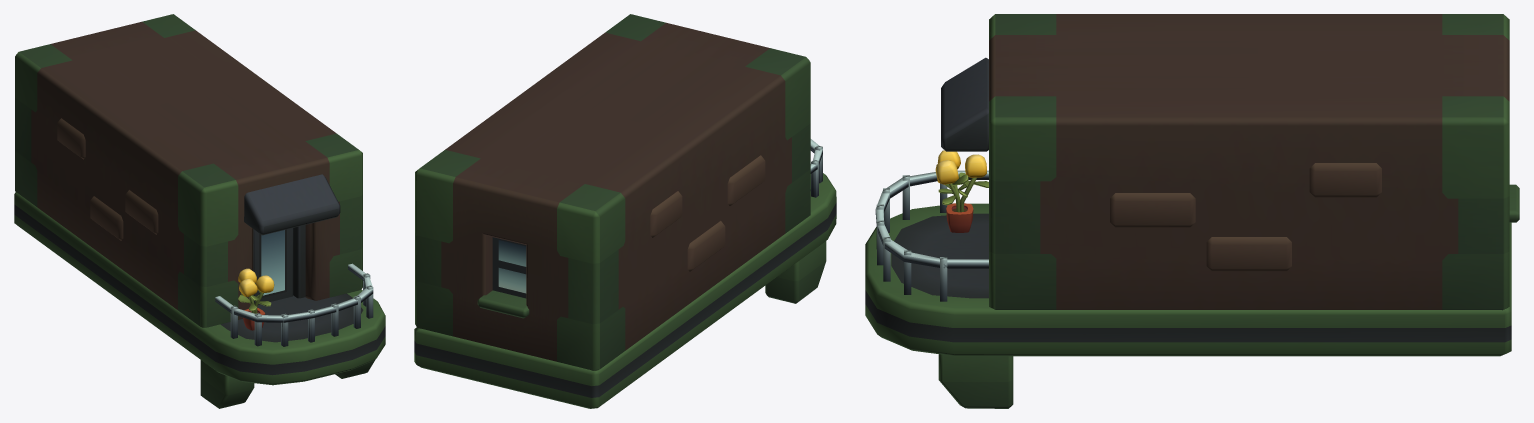
File: appartment_type1_x2_balcony_brown.fbx
3 renders of one model, left to right at view 1: azimuth 30°, elevation 25°; view 2: azimuth 150°, elevation 25°; view 3: azimuth 270°, elevation 25°, orthographic. The views are drawn at different scales.
Parts seen in each view (by area): view 1: appartment_type1_x2_balcony_brown, door_appartment_type1_x2_balcony_grey; view 2: appartment_type1_x2_balcony_brown; view 3: appartment_type1_x2_balcony_brown.
Boxes of the visible parts, x1=… form: appartment_type1_x2_balcony_brown: x1=14, y1=14, x2=385, y2=408; door_appartment_type1_x2_balcony_grey: x1=255, y1=228, x2=293, y2=304; appartment_type1_x2_balcony_brown: x1=414, y1=14, x2=836, y2=408; appartment_type1_x2_balcony_brown: x1=865, y1=14, x2=1519, y2=408.
Size of the model in its own units: 419 by 505 by 1017.
